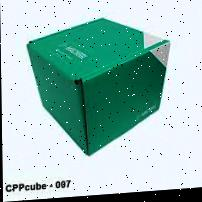cube: (29, 17, 170, 158)
